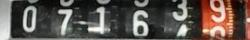digits: (131, 9, 149, 37), (22, 4, 37, 31), (209, 0, 226, 23), (57, 8, 72, 34), (171, 0, 187, 20), (95, 6, 106, 35)
